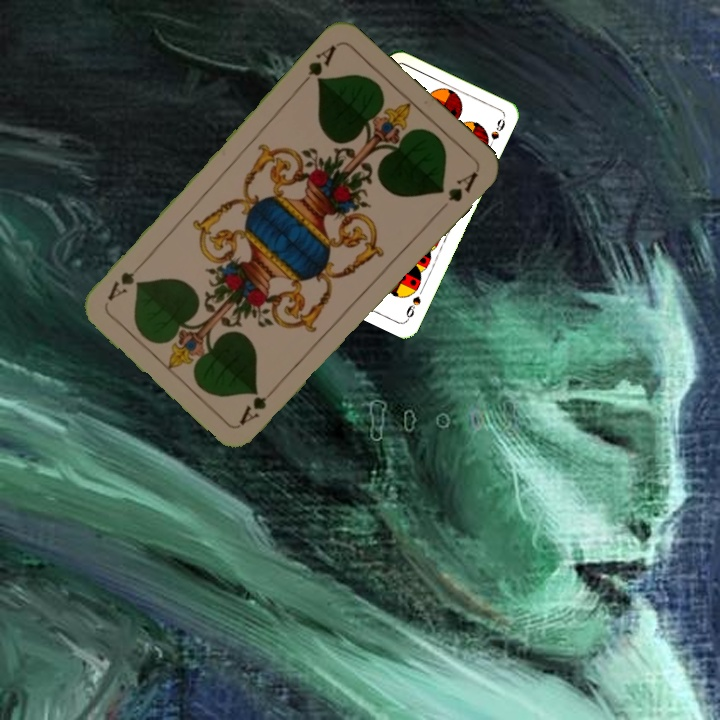GA: (235, 382, 282, 428), (296, 41, 339, 90)
S9: (402, 292, 423, 323)
